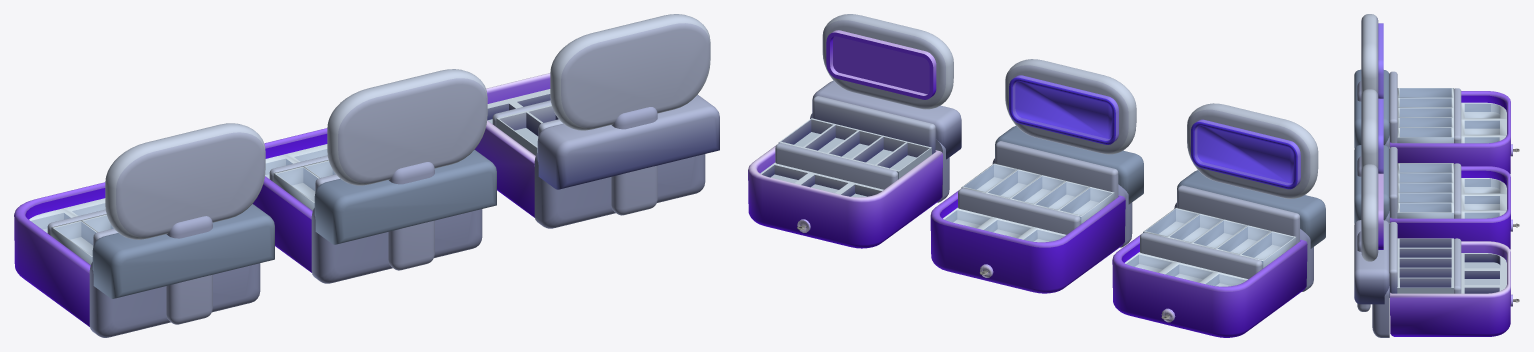
The model's file is cashierrun_newcases.fbx.
3 views of the same model, side by side, from view 1: azimuth 30°, elevation 25°; view 2: azimuth 150°, elevation 25°; view 3: azimuth 270°, elevation 25° (orthographic). The views are drawn at different scales.
Parts seen in each view (by area): view 1: cashierrun_cashregister.01, cashierrun_cashregister.03, cashierrun_cashregister.02, cashierrun_countmeter.03, cashierrun_countmeter.01, cashierrun_countmeter.02; view 2: cashierrun_cashregister.03, cashierrun_cashregister.02, cashierrun_cashregister.01, cashierrun_countmeter.03, cashierrun_countmeter.01, cashierrun_countmeter.02; view 3: cashierrun_cashregister.03, cashierrun_cashregister.02, cashierrun_cashregister.01, cashierrun_countmeter.03, cashierrun_countmeter.01, cashierrun_countmeter.02.
Part boxes in pixels (x1,y1,x2,y2): cashierrun_cashregister.01: [14, 182, 274, 337]; cashierrun_cashregister.03: [474, 73, 719, 228]; cashierrun_cashregister.02: [253, 128, 496, 283]; cashierrun_countmeter.03: [550, 14, 710, 215]; cashierrun_countmeter.01: [105, 123, 265, 324]; cashierrun_countmeter.02: [327, 69, 487, 270]; cashierrun_cashregister.03: [748, 80, 961, 248]; cashierrun_cashregister.02: [930, 126, 1143, 293]; cashierrun_cashregister.01: [1112, 170, 1325, 337]; cashierrun_countmeter.03: [822, 14, 953, 109]; cashierrun_countmeter.01: [1187, 103, 1318, 198]; cashierrun_countmeter.02: [1005, 59, 1136, 154]; cashierrun_cashregister.03: [1354, 220, 1519, 337]; cashierrun_cashregister.02: [1354, 145, 1519, 249]; cashierrun_cashregister.01: [1354, 69, 1519, 173]; cashierrun_countmeter.03: [1357, 164, 1383, 311]; cashierrun_countmeter.01: [1357, 14, 1383, 101]; cashierrun_countmeter.02: [1357, 89, 1383, 176].
Bounding box in the file's own units: 13.55 × 4.07 × 4.6.
